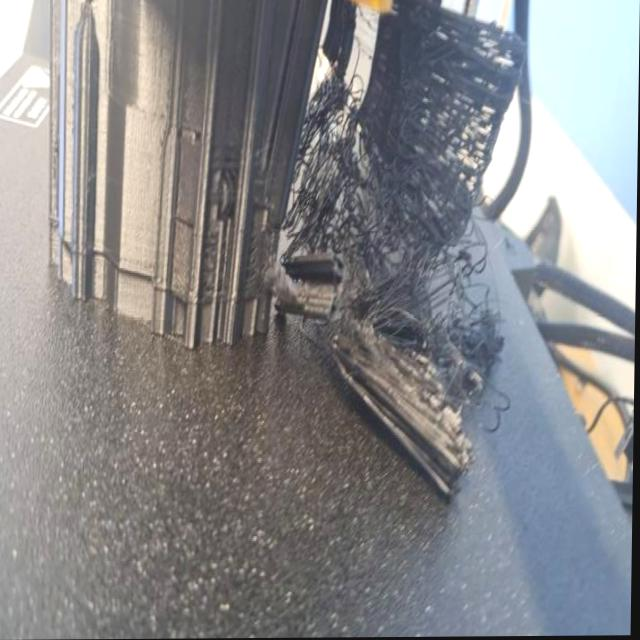spaghetti: (293, 14, 540, 447)
